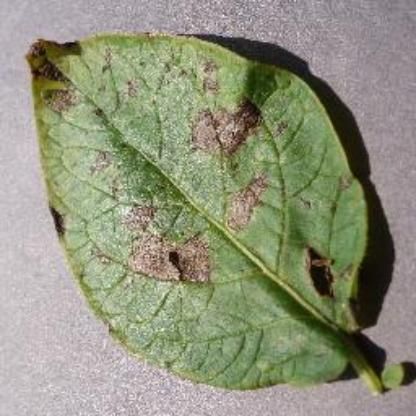Early-Blight: (21, 36, 407, 394)
